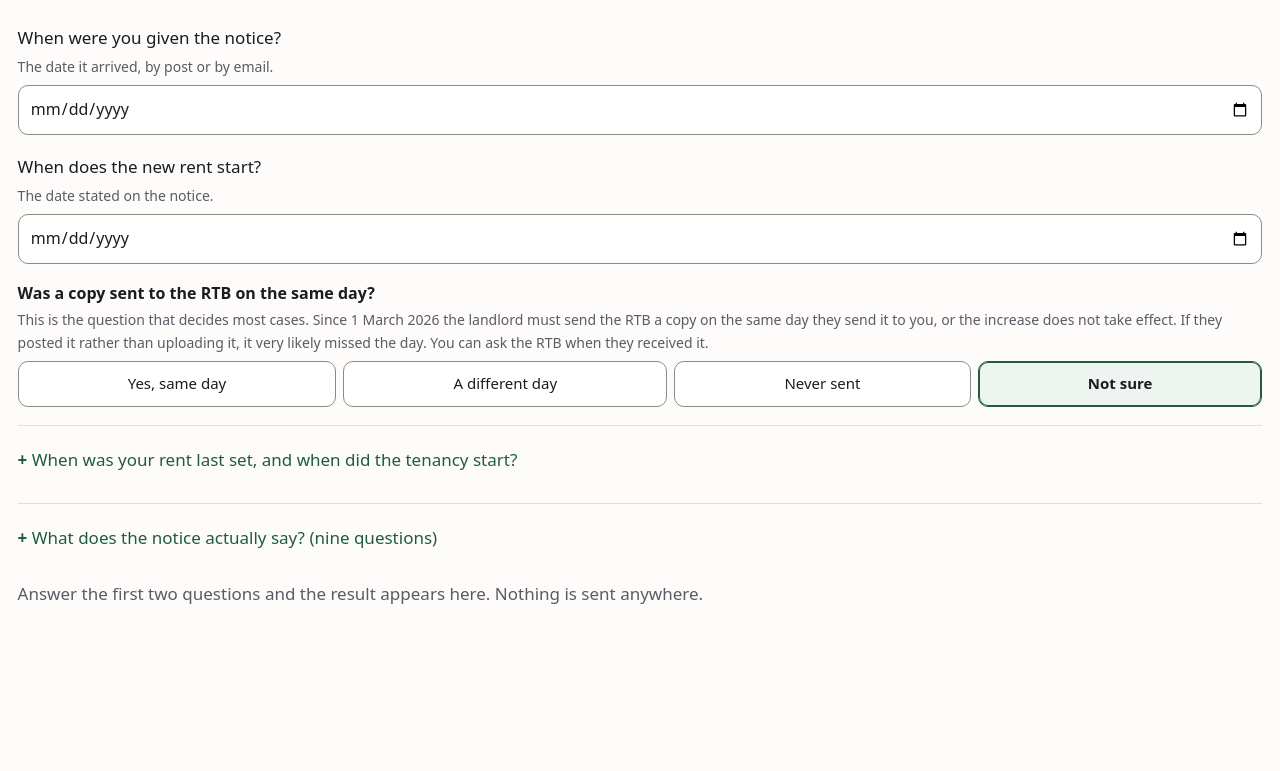
Test: the notice check › returns the deadline even when the notice is void, because it still matters
Type "2026-06-01" into the date field labelled "When were you given the notice?".
click(640, 110); type("2026-06-01")  # box [18,85,1262,135]
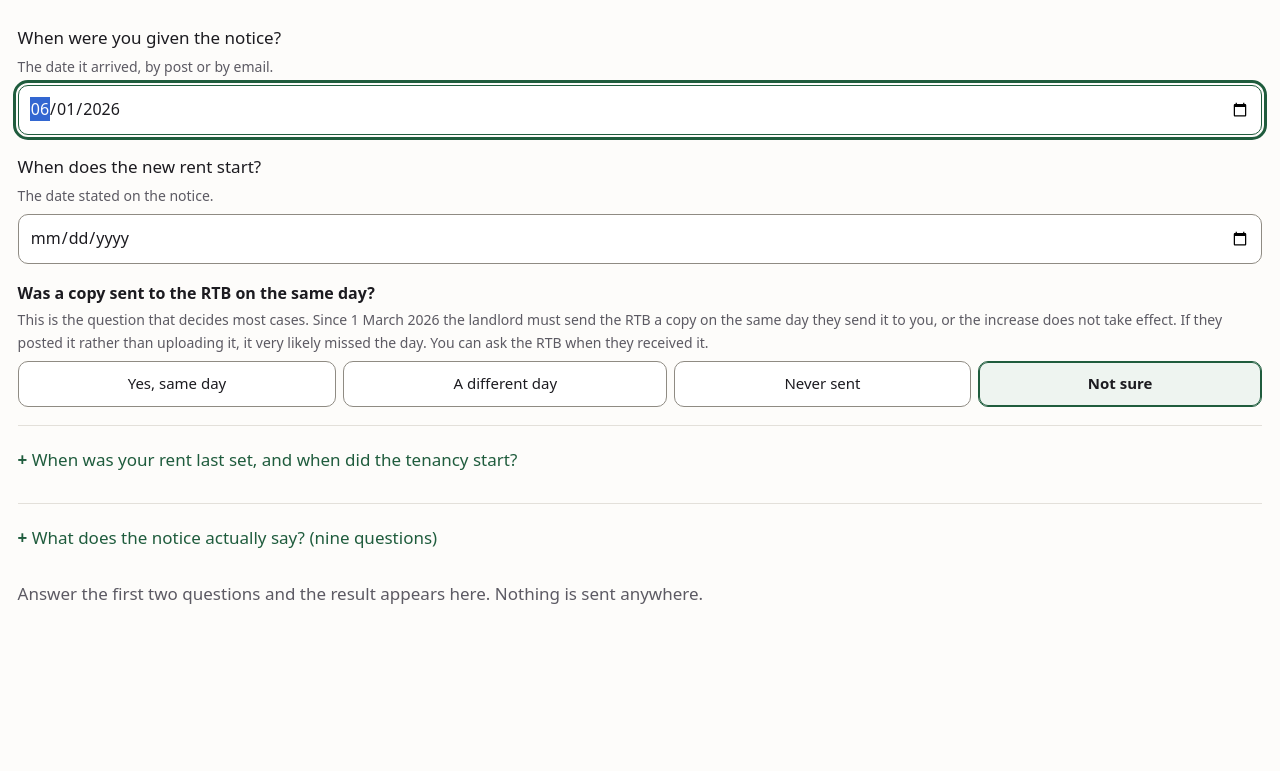
Type "2026-09-01" into the date field labelled "When does the new rent start?".
click(640, 239); type("2026-09-01")  # box [18,214,1262,264]
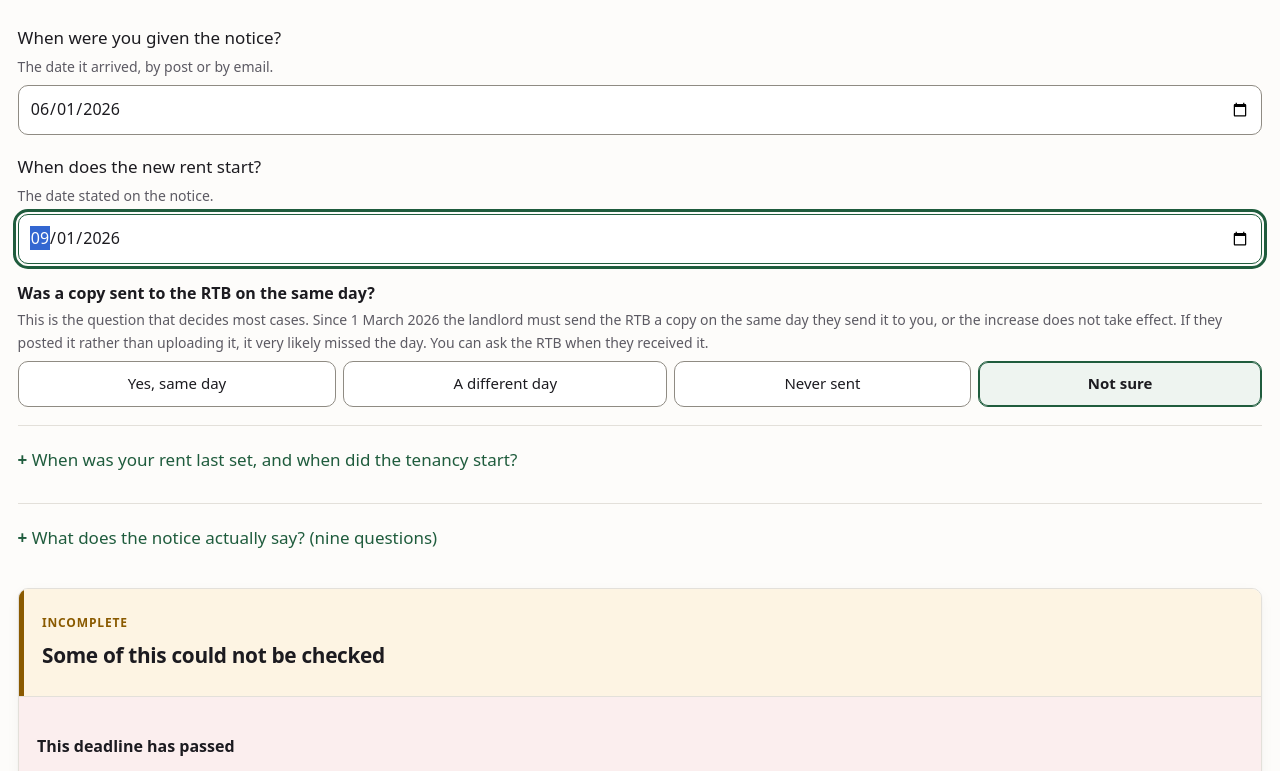
Click the radio button labelled "Never sent".
click(822, 384)  # box [674,361,971,407]
(page scrolled)
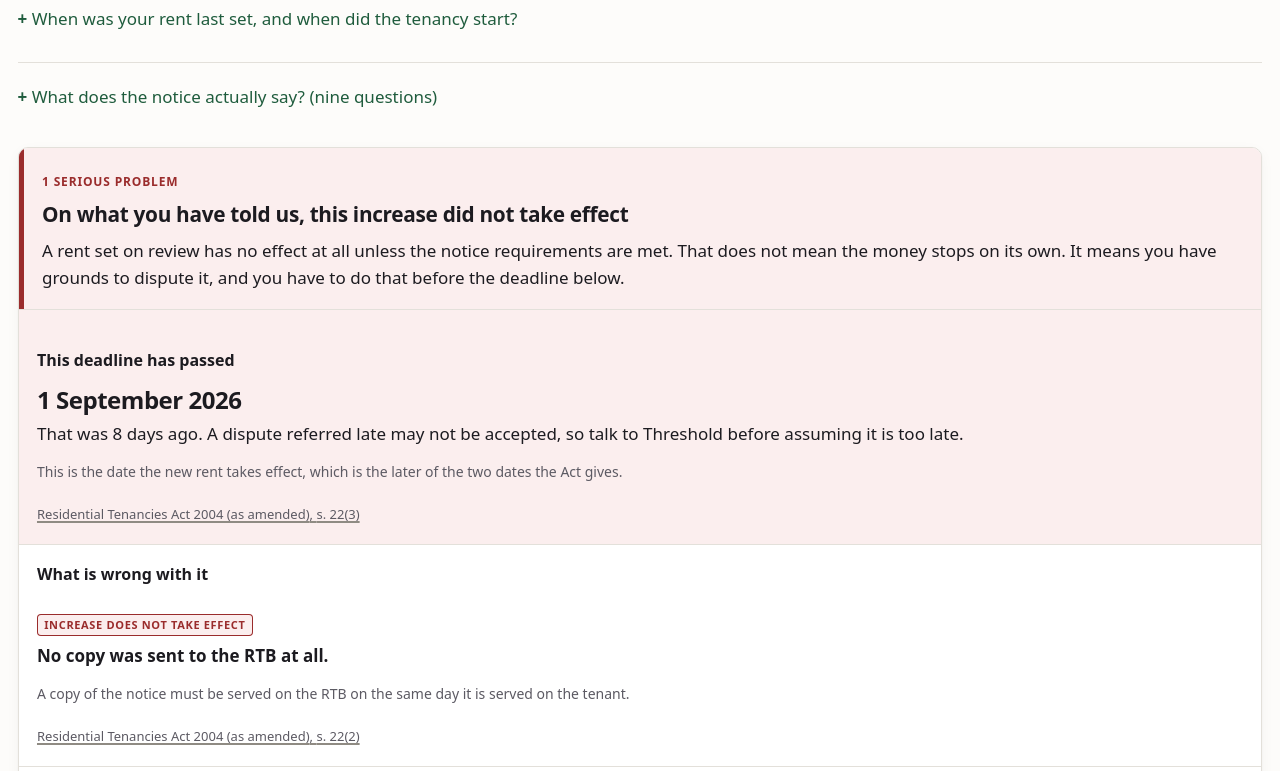
Now the text with class "date" reads "1 September 2026", box [37,383,242,416]
Now the heading "On what you have told us, this increase did not take effect" is shown, box [42,200,628,228]
